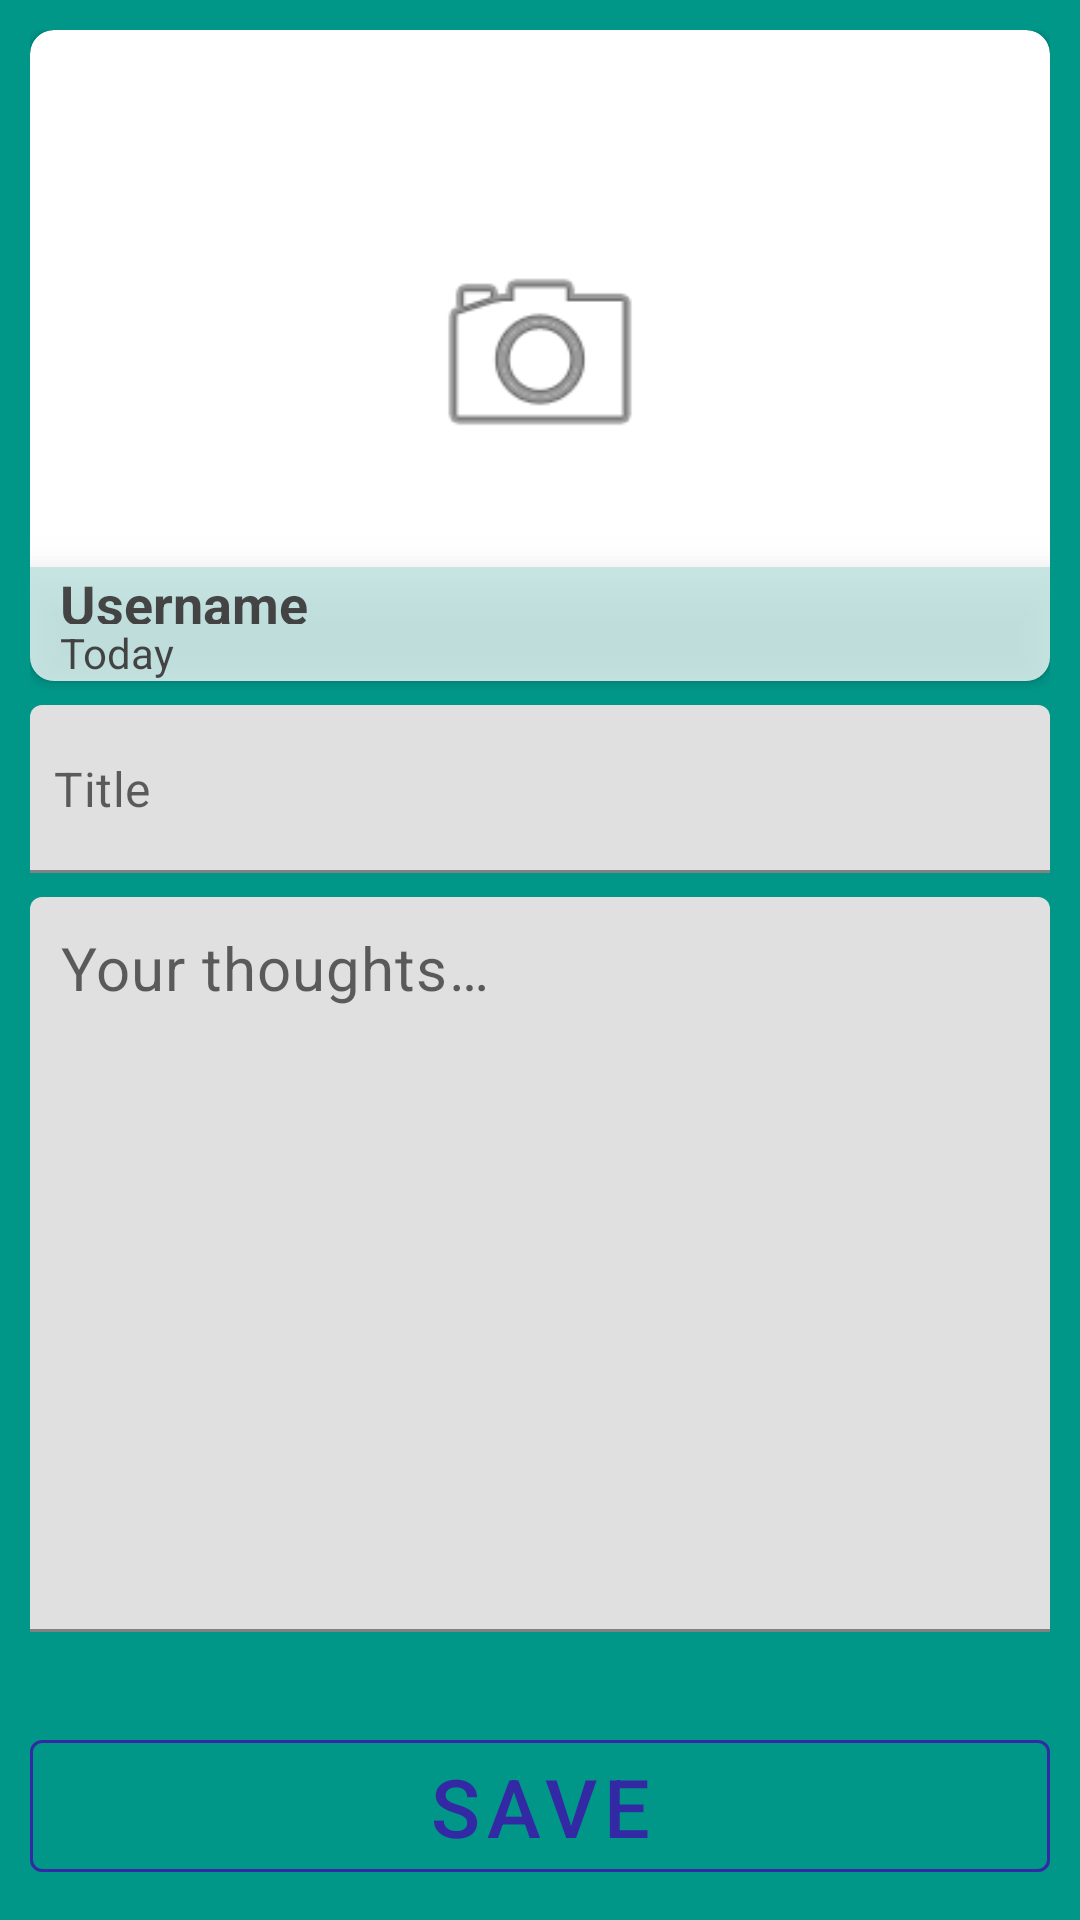

Named icons in this screenshot (1080w x 1920h) and their centers, (x,y):
add photo image: (540,352)
